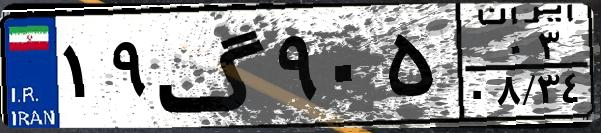0: (330, 28, 385, 110), (508, 27, 537, 80), (470, 70, 495, 125)
1: (57, 26, 110, 100)
3: (537, 27, 568, 80), (535, 70, 560, 125)
4: (560, 70, 590, 125)
5: (385, 28, 445, 110)
8: (495, 70, 520, 125)
9: (270, 28, 330, 110), (110, 28, 156, 98)
گ: (156, 12, 270, 120)
